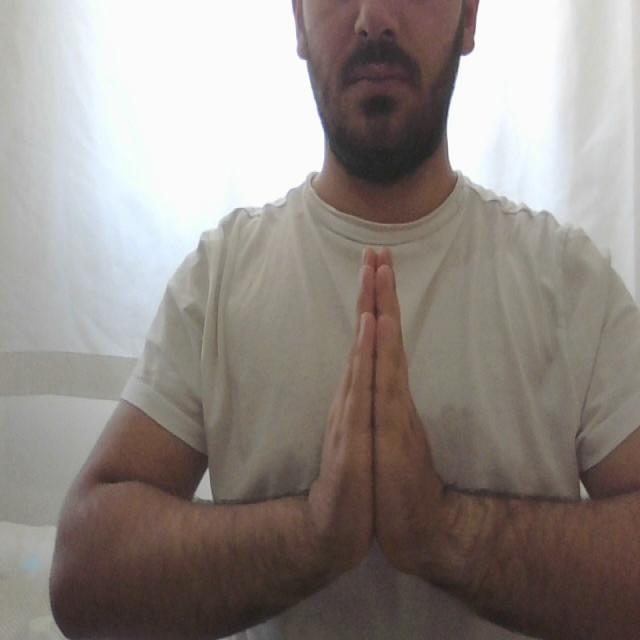Ozur-Dilemek: (302, 237, 448, 592)
